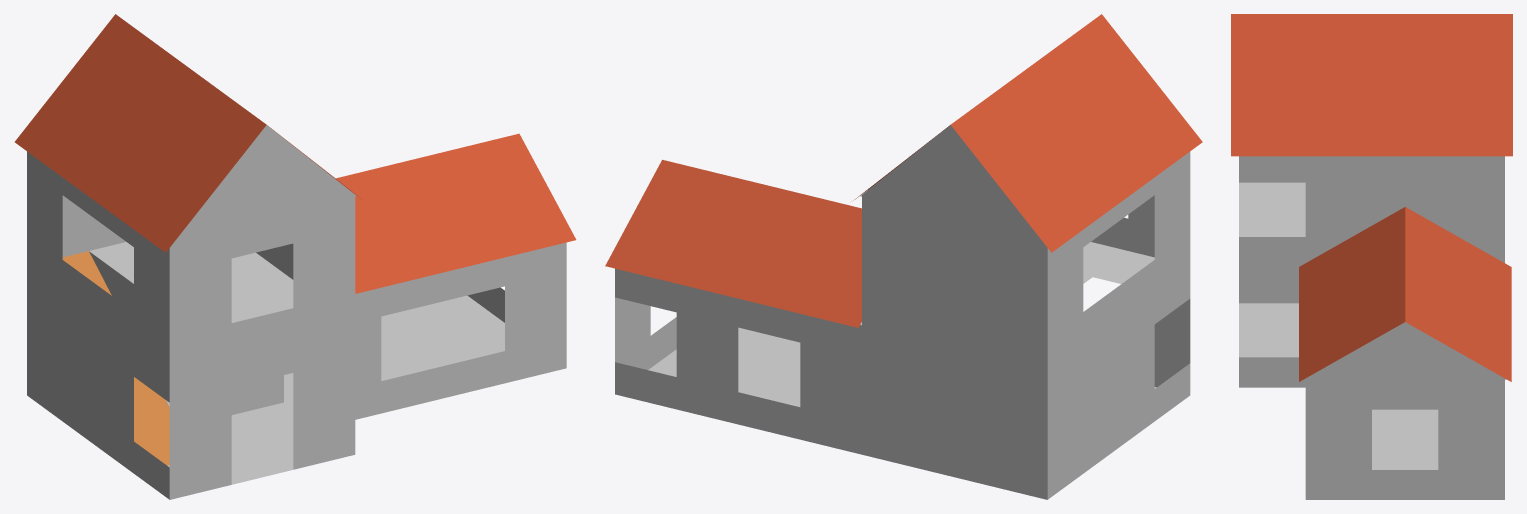
File: anjahouse.dae
The picture shows the model from 3 angles, left to right: view 1: azimuth 30°, elevation 25°; view 2: azimuth 150°, elevation 25°; view 3: azimuth 270°, elevation 25°; orthographic projection. The views are drawn at different scales.
Visible parts, largest first — view 1: Plane; view 2: Plane; view 3: Plane.
Boxes of the visible parts, x1,y1,x2,y2 form: Plane: (14,14,576,499); Plane: (605,14,1202,499); Plane: (1231,14,1512,499).
Size of the model in its own units: 14.47 by 8.48 by 11.
